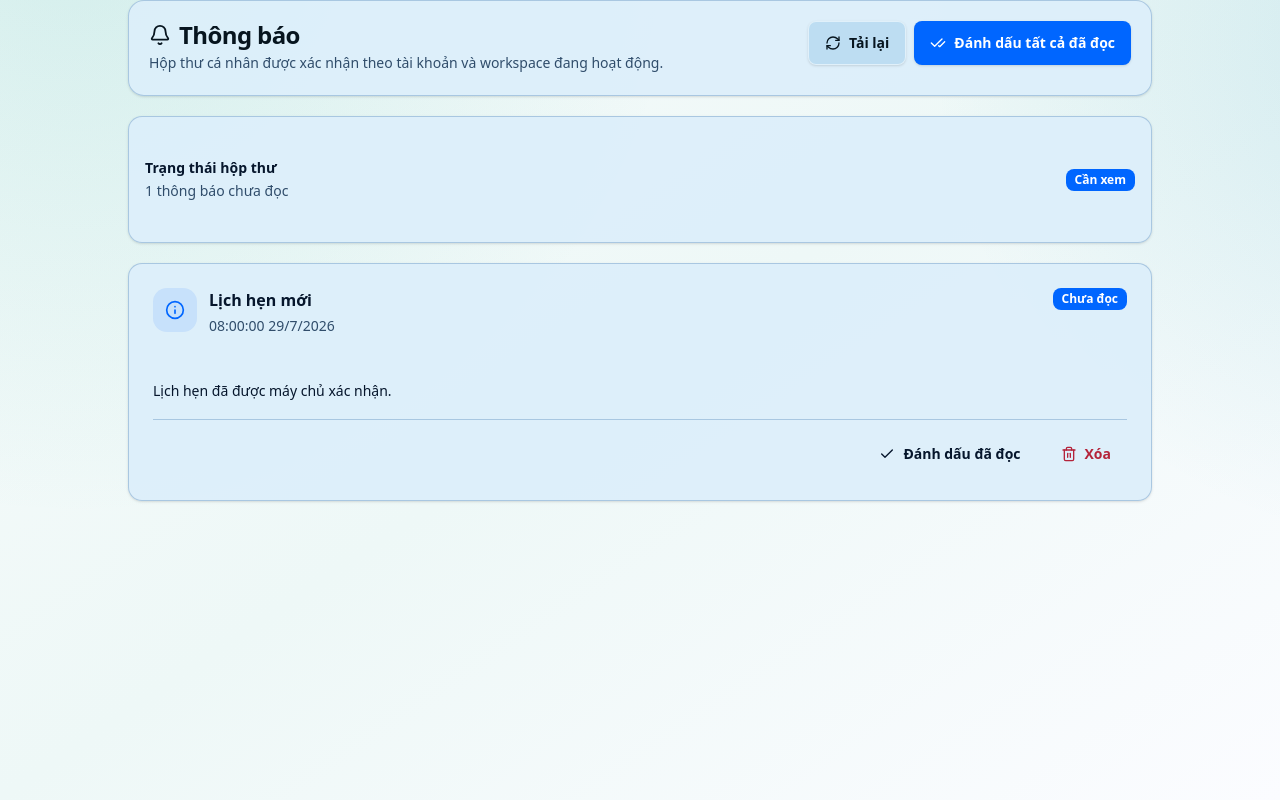
Test: NotificationsPage personal inbox truth › requires destructive confirmation and removes the item only after backend acknowledgement
Later steps or results of the test are not shown.
Expected: the text "Lịch hẹn mới" is shown, [209, 288, 312, 312]
Step 1. Click the button with aria-label "Xóa thông báo Lịch hẹn mới" → (1086, 454), box [1044, 432, 1127, 476]
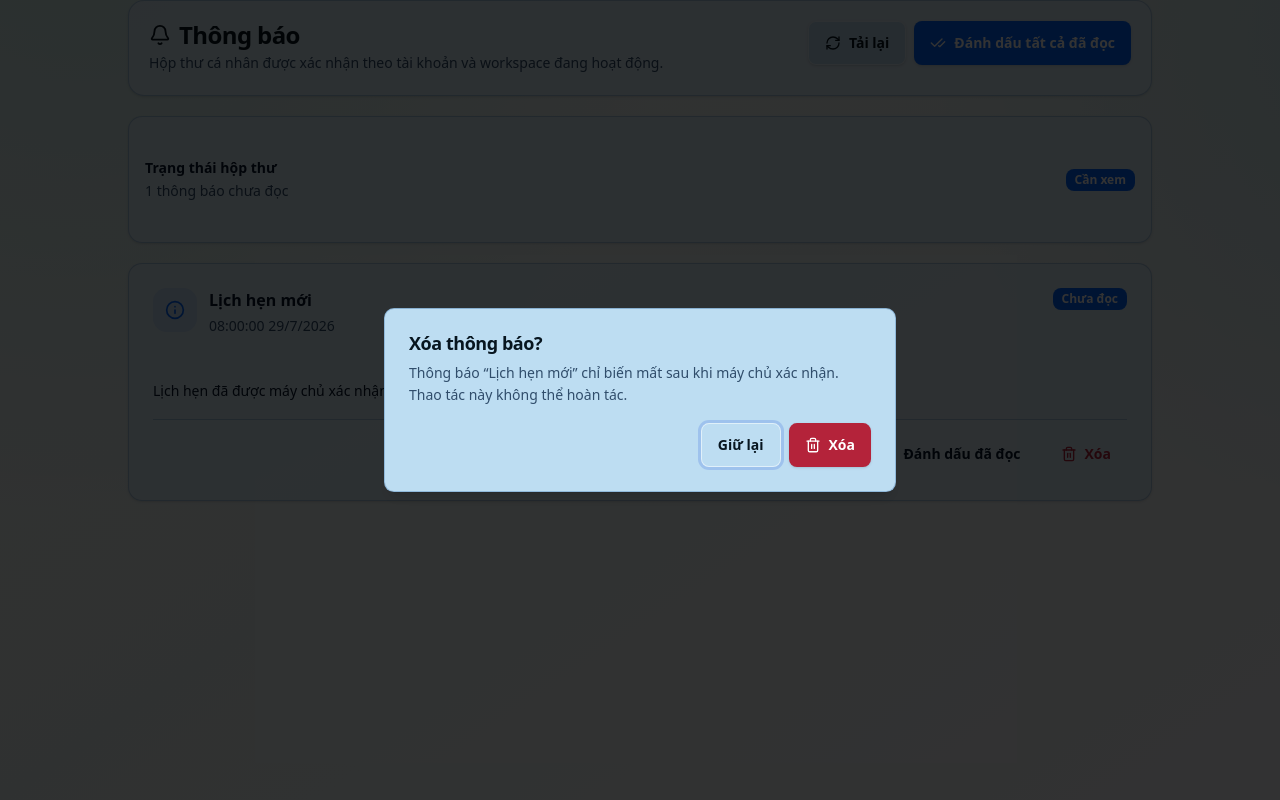
Step 2. Click the button "Xóa" → (830, 445), box [788, 423, 871, 467]
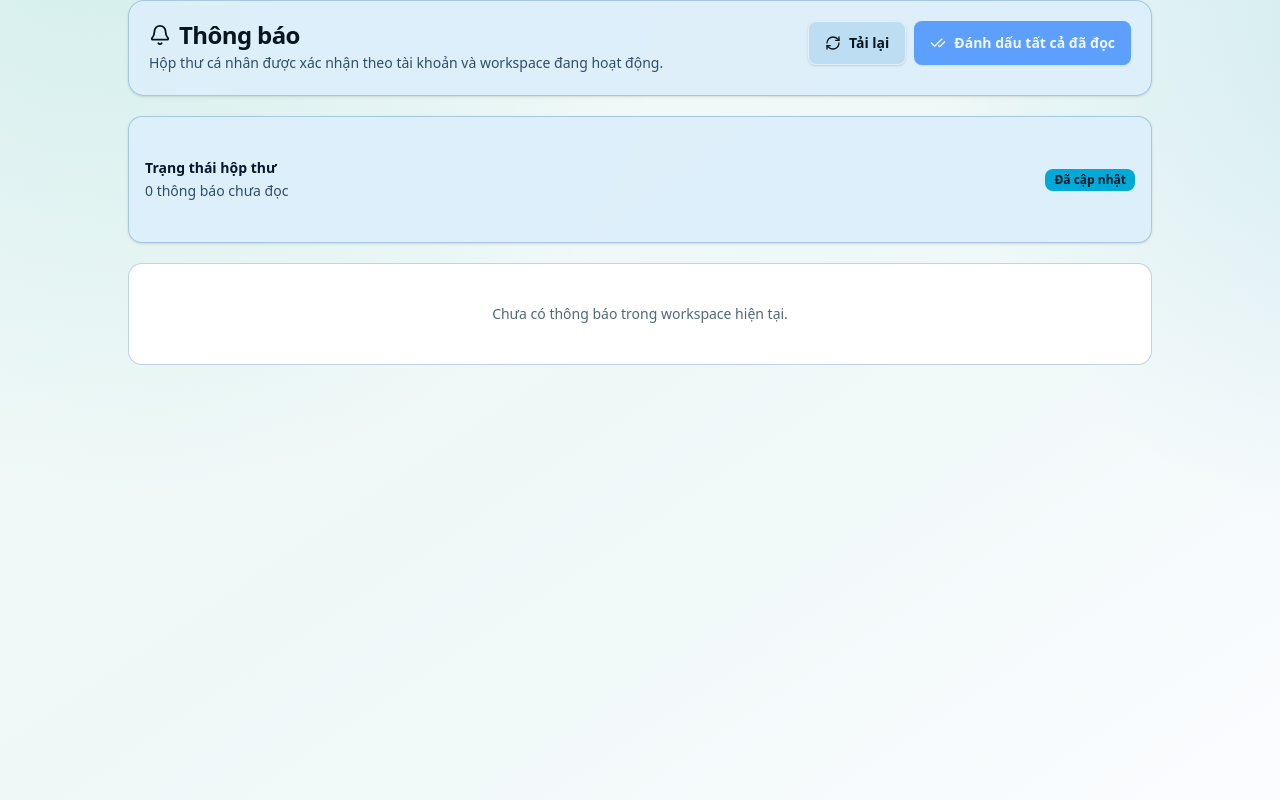
Expected: the text "Lịch hẹn mới" is gone
